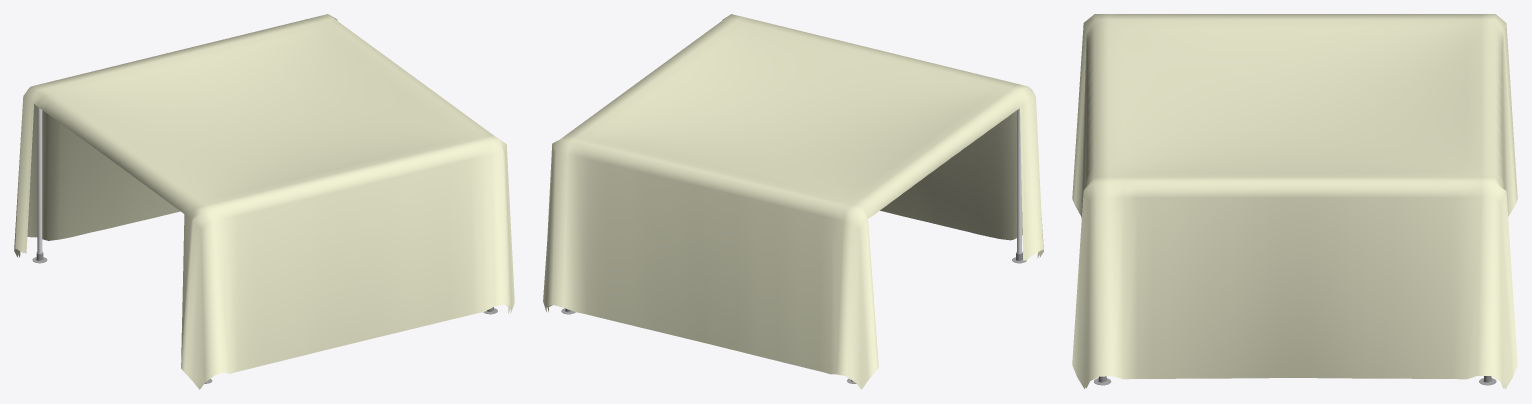
File: TiendaFF.fbx
3 renders of one model, left to right at view 1: azimuth 30°, elevation 25°; view 2: azimuth 150°, elevation 25°; view 3: azimuth 270°, elevation 25°, orthographic. The views are drawn at different scales.
Parts seen in each view (by area): view 1: fiberCover, fiberCover1, Bar_2; view 2: fiberCover, fiberCover1, Bar_4; view 3: fiberCover.
Part boxes in pixels (x1,y1,x2,y2): fiberCover: (14,14,514,389); fiberCover1: (16,102,510,313); Bar_2: (37,107,42,253); fiberCover: (543,14,1043,389); fiberCover1: (547,106,1041,311); Bar_4: (1017,108,1021,253); fiberCover: (1072,14,1517,389).
Size of the model in its own units: 18.54 by 9.27 by 18.51.
